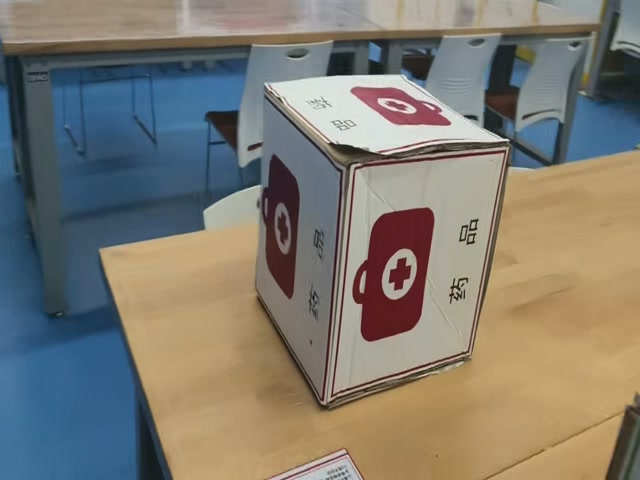Cube_medicine: (261, 73, 512, 160)
